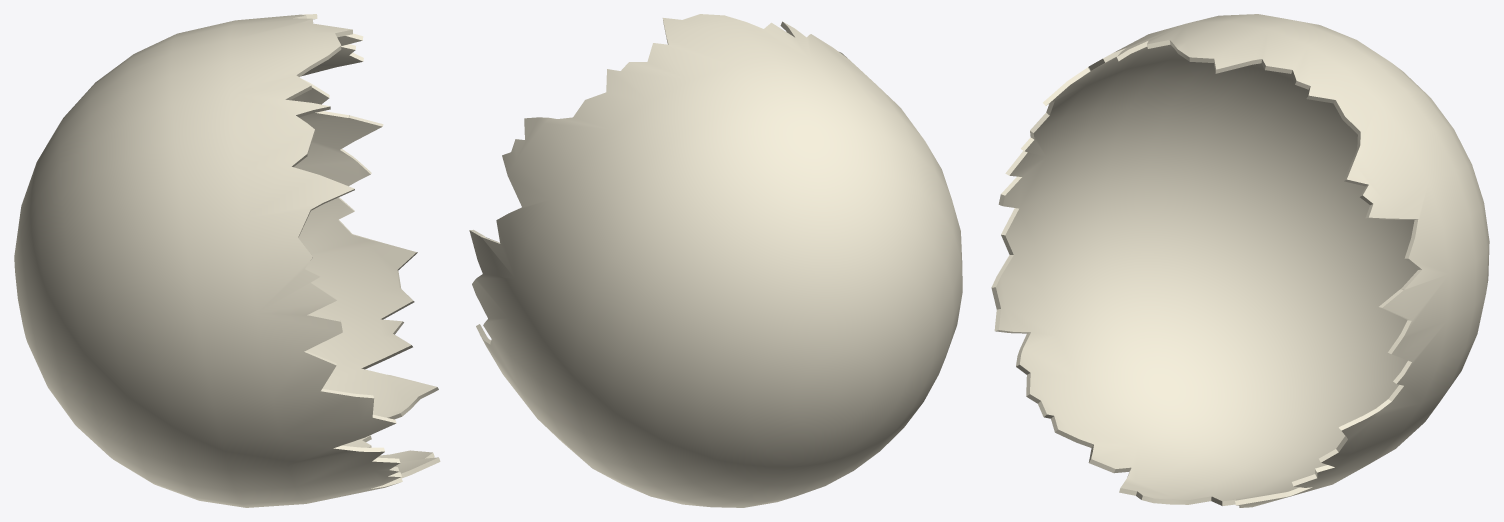
The model's file is eggshell1.fbx.
The picture shows the model from 3 angles, left to right: view 1: azimuth 30°, elevation 25°; view 2: azimuth 150°, elevation 25°; view 3: azimuth 270°, elevation 25°; orthographic projection. The views are drawn at different scales.
Parts seen in each view (by area): view 1: Shell; view 2: Shell; view 3: Shell.
Boxes of the visible parts, <box> form: Shell: <box>14,14,440,507</box>; Shell: <box>469,14,962,507</box>; Shell: <box>991,14,1489,507</box>.
Size of the model in its own units: 41.06 by 42.16 by 42.53.
